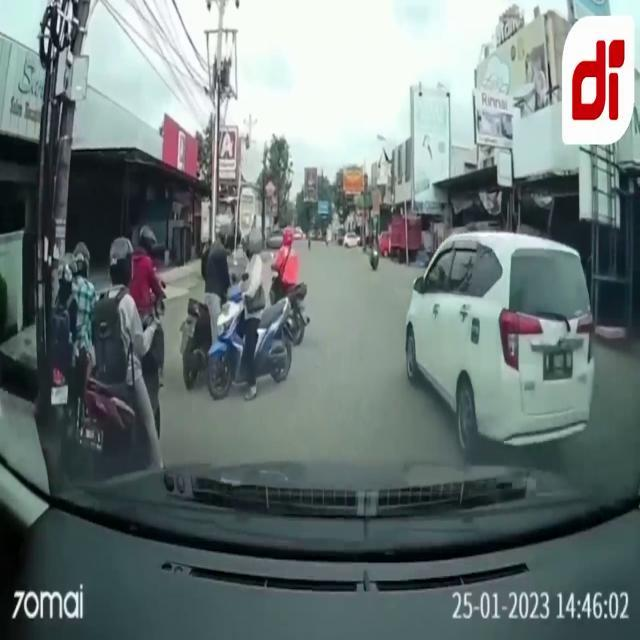multiple_accident: (179, 197, 274, 386)
normal: (423, 233, 616, 461), (60, 243, 164, 429), (277, 216, 347, 339)
